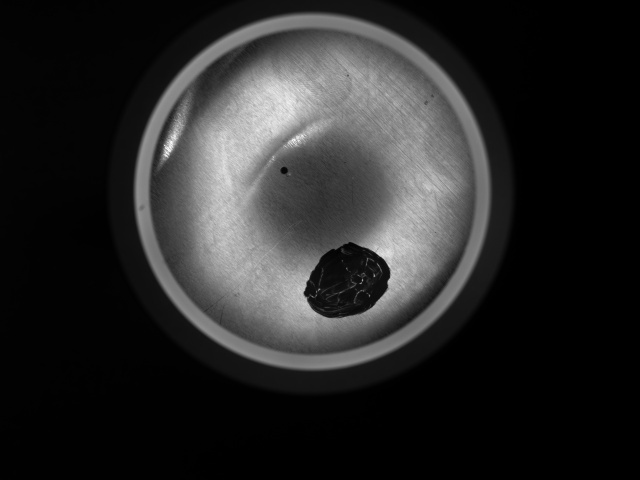zang_wu: (301, 239, 392, 321)
zhen_kong: (279, 164, 291, 177)
